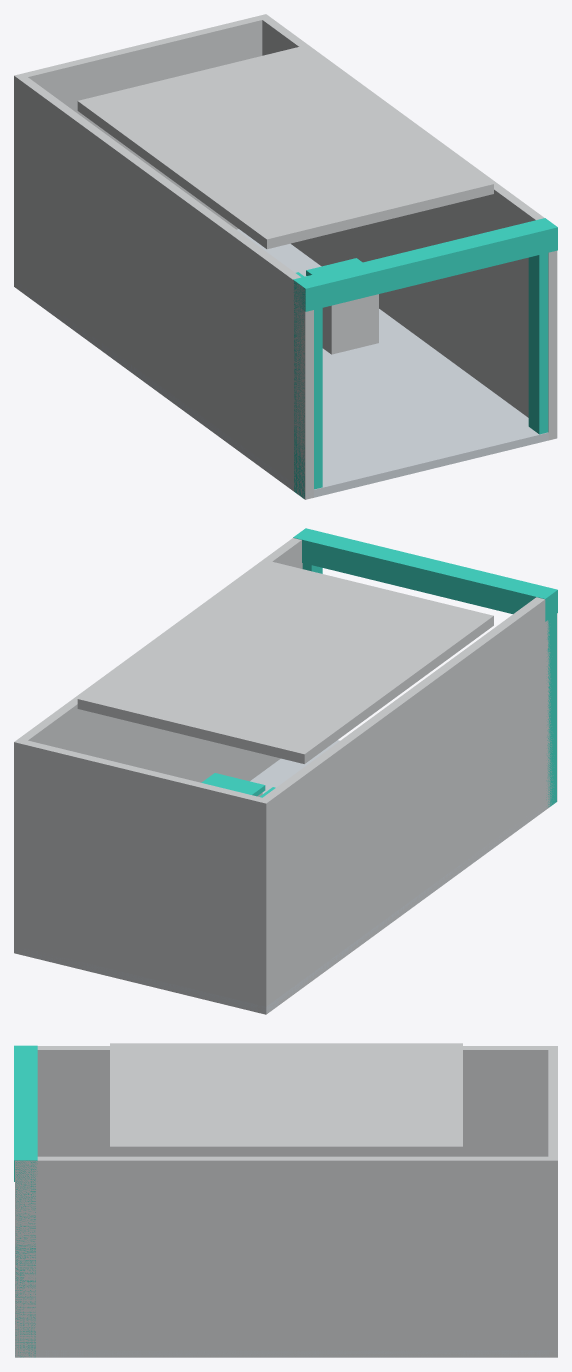
3 renders of one model, top to bottom at view 1: azimuth 30°, elevation 25°; view 2: azimuth 150°, elevation 25°; view 3: azimuth 270°, elevation 25°, orthographic. The views are drawn at different scales.
Parts seen in each view (by area): view 1: Exhibition Booth Concept; view 2: Exhibition Booth Concept; view 3: Exhibition Booth Concept.
Part boxes in pixels (x1,y1,x2,y2): Exhibition Booth Concept: [14, 14, 557, 499]; Exhibition Booth Concept: [14, 528, 557, 1014]; Exhibition Booth Concept: [14, 1043, 557, 1357].
Size of the model in its own units: 4 by 3.34 by 8.01.
